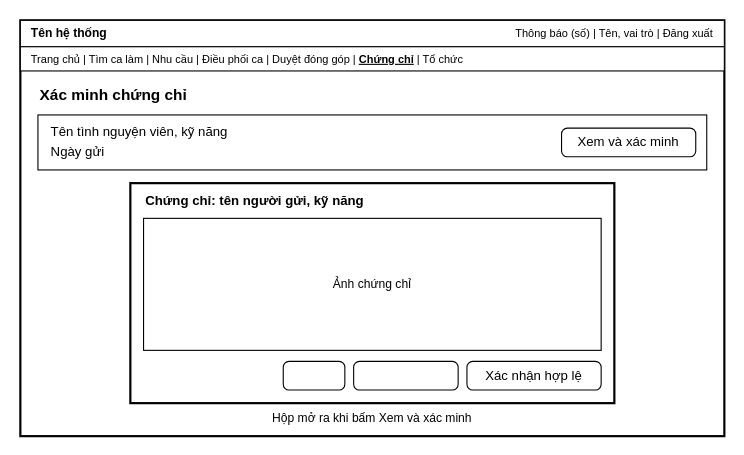
Image size: 744x455. Some labels were removed from this diagram. The centre of each missing label's shape, as x and y in pixels:
Chưa hợp lệ: (x=405, y=375)
Đóng: (x=313, y=375)
